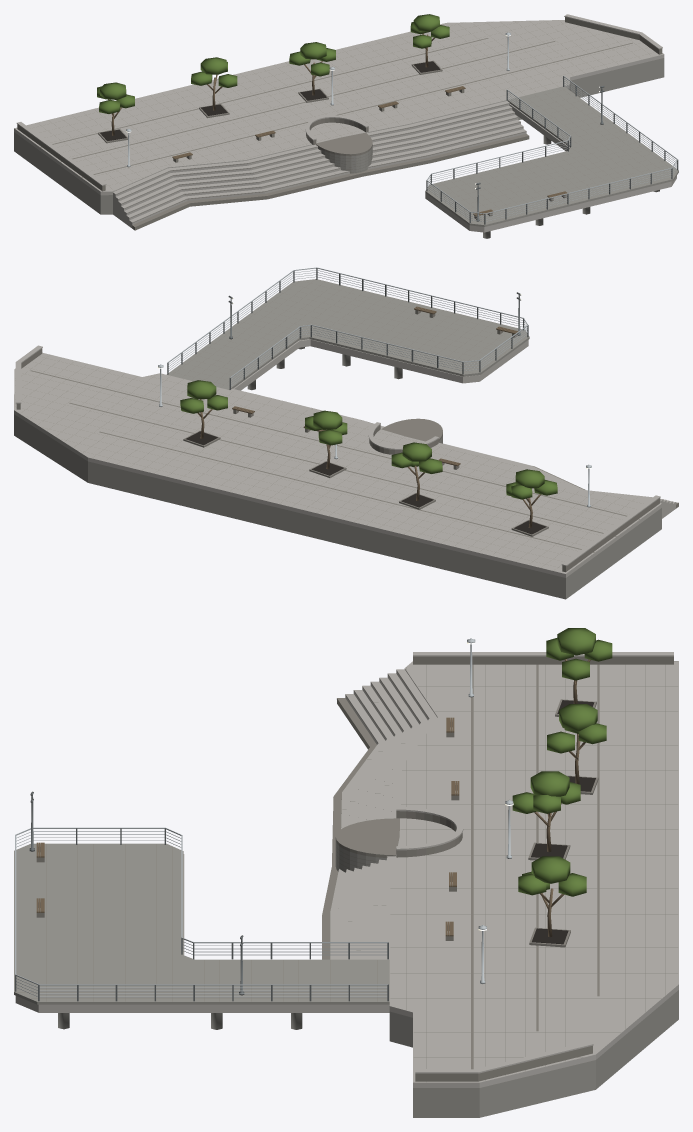
File: sg-merlion-park.glb
3 views of the same model, one above another, from view 1: azimuth 30°, elevation 25°; view 2: azimuth 150°, elevation 25°; view 3: azimuth 270°, elevation 25° (orthographic). The views are drawn at different scales.
Visible parts, largest first — view 1: waterfront_plaza, precast_pier_and_viewing_deck, stepped_granite_seawall, shade_trees_and_planters, stainless_steel_deck_rails, granite_paving_and_inlays, curved_stone_parapet, semicircular_waterfront_platform, promenade_benches, promenade_lamp_posts; view 2: waterfront_plaza, precast_pier_and_viewing_deck, shade_trees_and_planters, stainless_steel_deck_rails, granite_paving_and_inlays, curved_stone_parapet, stepped_granite_seawall, semicircular_waterfront_platform, promenade_benches; view 3: waterfront_plaza, precast_pier_and_viewing_deck, stepped_granite_seawall, granite_paving_and_inlays, shade_trees_and_planters, stainless_steel_deck_rails, curved_stone_parapet, semicircular_waterfront_platform, promenade_benches, promenade_lamp_posts.
Part boxes in pixels (<box>): waterfront_plaza: <box>14,20,664,214</box>; precast_pier_and_viewing_deck: <box>425,86,678,238</box>; stepped_granite_seawall: <box>113,101,529,230</box>; shade_trees_and_planters: <box>97,14,449,143</box>; stainless_steel_deck_rails: <box>426,76,678,224</box>; granite_paving_and_inlays: <box>14,22,666,215</box>; curved_stone_parapet: <box>16,14,662,191</box>; semicircular_waterfront_platform: <box>316,132,372,173</box>; promenade_benches: <box>172,86,567,219</box>; promenade_lamp_posts: <box>126,32,604,221</box>; waterfront_plaza: <box>14,352,661,599</box>; precast_pier_and_viewing_deck: <box>166,279,529,390</box>; shade_trees_and_planters: <box>180,380,557,536</box>; stainless_steel_deck_rails: <box>167,267,528,389</box>; granite_paving_and_inlays: <box>21,281,659,572</box>; curved_stone_parapet: <box>15,345,660,572</box>; stepped_granite_seawall: <box>230,388,678,518</box>; semicircular_waterfront_platform: <box>381,418,442,443</box>; promenade_benches: <box>232,306,518,469</box>; waterfront_plaza: <box>389,661,678,1117</box>; precast_pier_and_viewing_deck: <box>14,843,389,1029</box>; stepped_granite_seawall: <box>322,669,437,959</box>; granite_paving_and_inlays: <box>15,661,677,1080</box>; shade_trees_and_planters: <box>512,628,612,947</box>; stainless_steel_deck_rails: <box>15,827,388,1001</box>; curved_stone_parapet: <box>396,652,673,1081</box>; semicircular_waterfront_platform: <box>335,818,399,872</box>; promenade_benches: <box>36,717,459,940</box>; promenade_lamp_posts: <box>29,638,513,995</box>.
Size of the model in its own units: 60 by 7.62 by 40.
